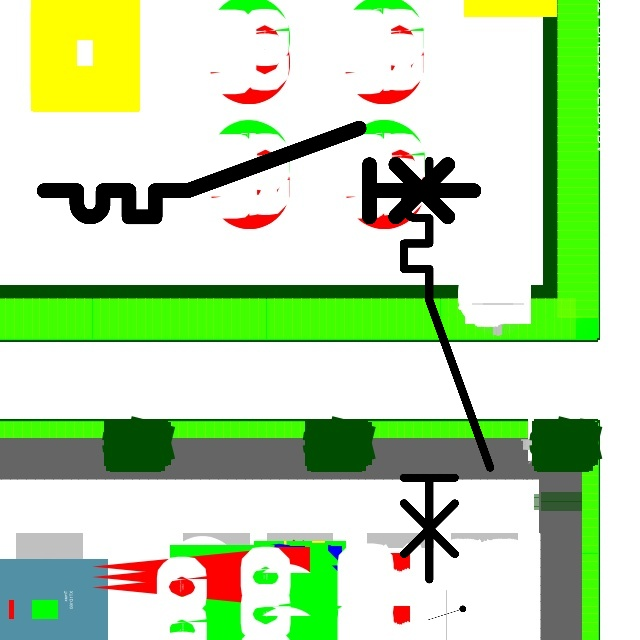interruptor_termomagnetico: (33, 117, 485, 228), (393, 150, 500, 590)
